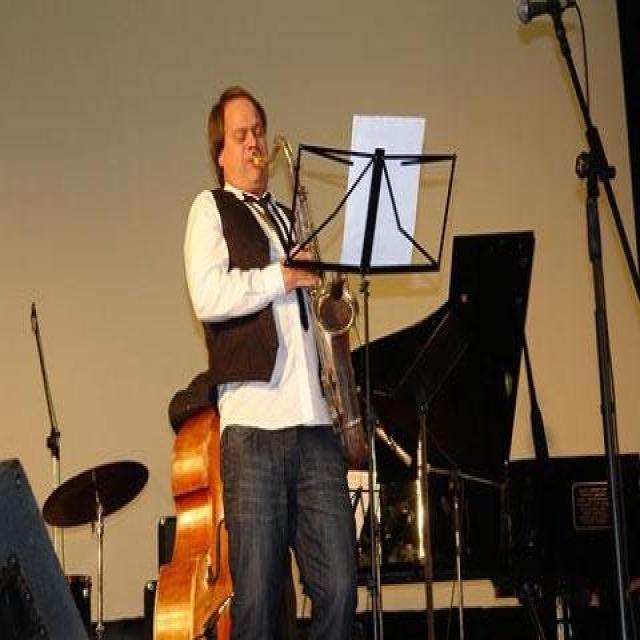saxophone: (247, 136, 370, 466)
